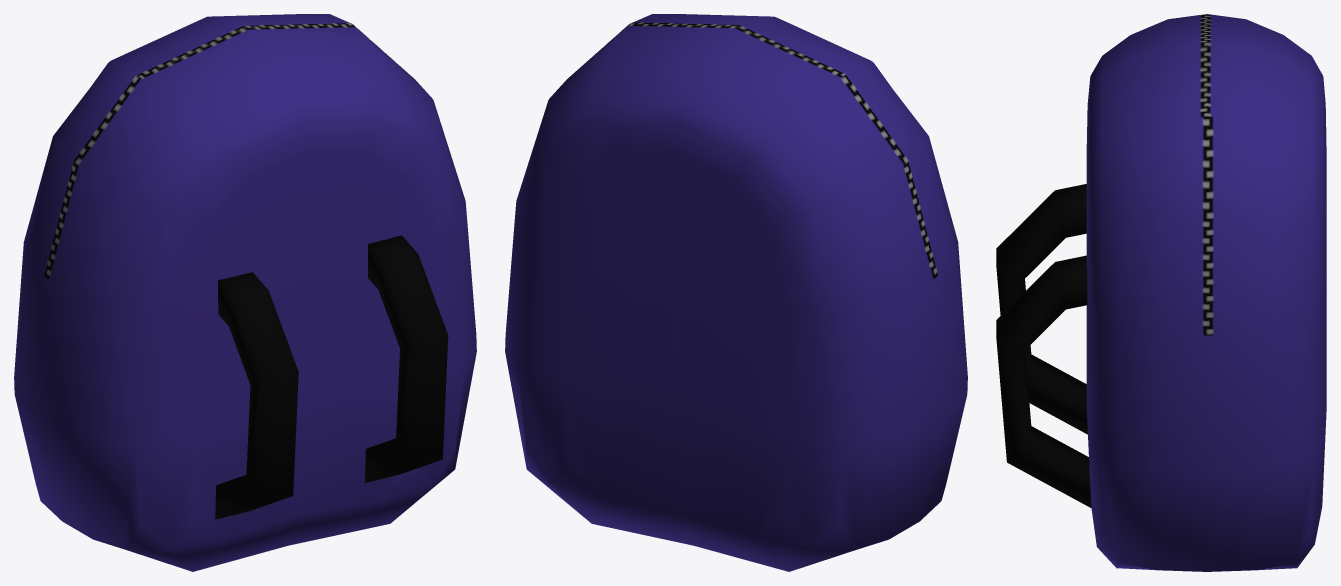
File: Bag.fbx
The picture shows the model from 3 angles, left to right: view 1: azimuth 30°, elevation 25°; view 2: azimuth 150°, elevation 25°; view 3: azimuth 270°, elevation 25°; orthographic projection.
Parts seen in each view (by area): view 1: Schoolbag; view 2: Schoolbag; view 3: Schoolbag.
Boxes of the visible parts, bbox=[...] form: Schoolbag: bbox=[14, 14, 476, 571]; Schoolbag: bbox=[505, 14, 967, 571]; Schoolbag: bbox=[996, 14, 1326, 571].
Size of the model in its own units: 0.023 by 0.0256 by 0.016.
